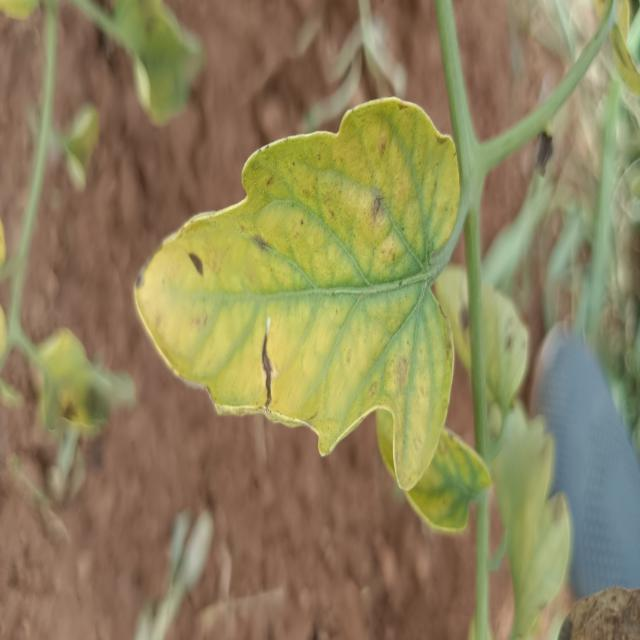tomato_early blight: (134, 97, 460, 490), (372, 391, 495, 531)
